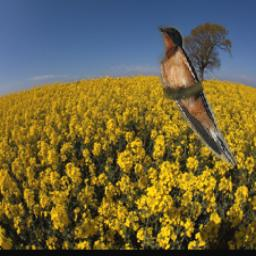Swallow: (155, 22, 239, 165)
